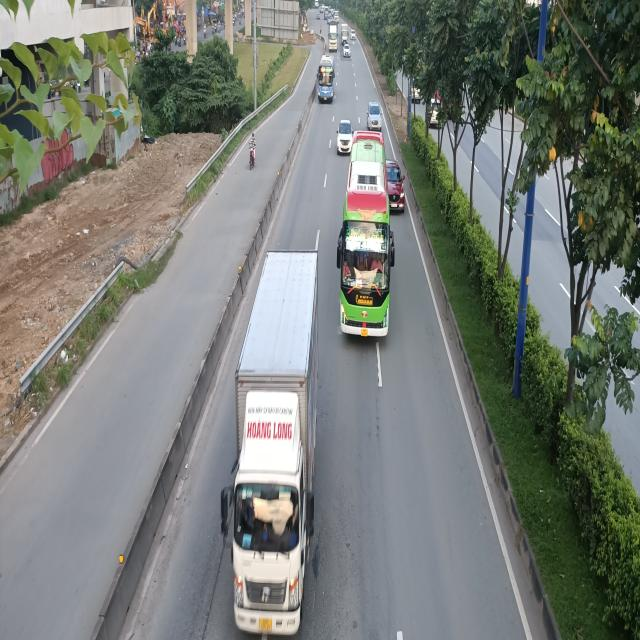car: (383, 160, 406, 212), (338, 118, 354, 154), (367, 102, 384, 129)
coach: (338, 133, 396, 339), (317, 52, 335, 100)
truck: (220, 250, 318, 638)
